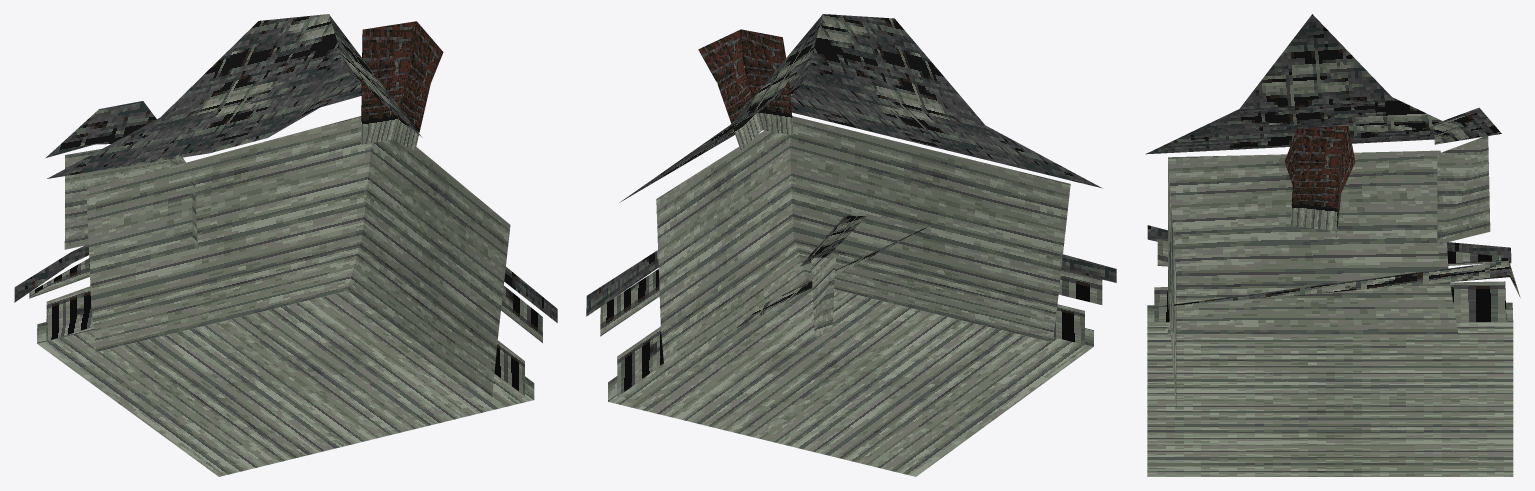
Rendered from ps2_save-icons_monsterhouse.glb.
3 renders of one model, left to right at view 1: azimuth 30°, elevation 25°; view 2: azimuth 150°, elevation 25°; view 3: azimuth 270°, elevation 25°, orthographic. The views are drawn at different scales.
Parts seen in each view (by area): view 1: static.ico; view 2: static.ico; view 3: static.ico.
Boxes of the visible parts, x1,y1,x2,y2 form: static.ico: [14, 14, 557, 476]; static.ico: [586, 14, 1116, 476]; static.ico: [1145, 14, 1520, 476].
Size of the model in its own units: 4.31 by 4.17 by 3.86.
1 material, 1 textured.
